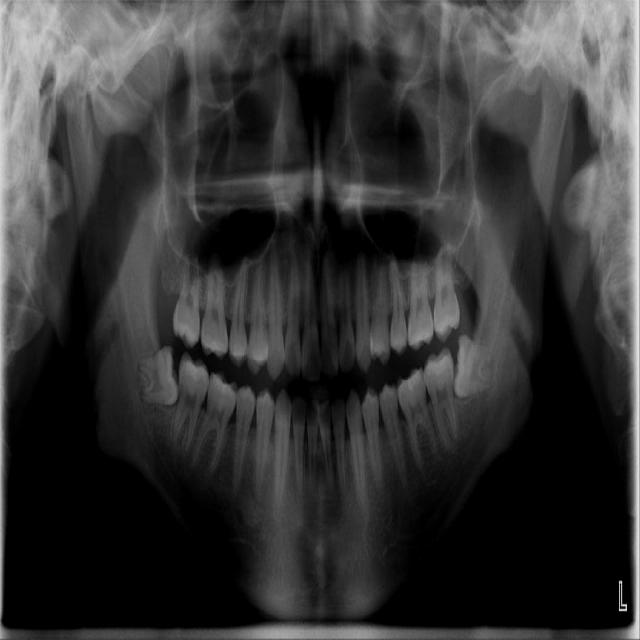impacted tooth: (453, 333, 505, 394), (136, 346, 177, 401)
